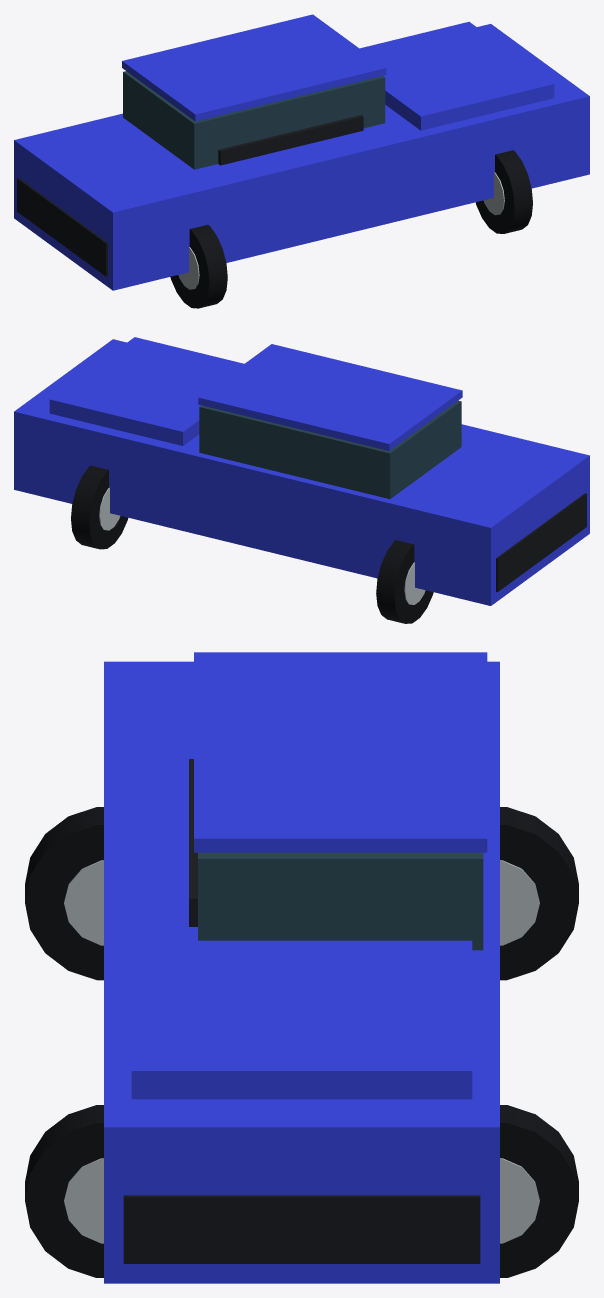
File: ford_f_150_svt_lightning.glb
The picture shows the model from 3 angles, top to bottom: view 1: azimuth 30°, elevation 25°; view 2: azimuth 150°, elevation 25°; view 3: azimuth 270°, elevation 25°; orthographic projection. The views are drawn at different scales.
Parts seen in each view (by area): view 1: body, roof, hood, cabin, rear_bumper, rear_right_wheel, front_right_wheel, interior; view 2: body, roof, cabin, hood, rear_bumper, rear_left_wheel, front_left_wheel; view 3: body, roof, hood, cabin, front_bumper, rear_left_wheel, rear_right_wheel, front_left_wheel, front_right_wheel, interior.
Boxes of the visible parts, bbox=[...] form: body: bbox=[14, 24, 589, 290]; roof: bbox=[122, 14, 386, 121]; hood: bbox=[360, 21, 554, 130]; cabin: bbox=[123, 71, 385, 169]; rear_bumper: bbox=[17, 178, 107, 276]; rear_right_wheel: bbox=[170, 224, 227, 308]; front_right_wheel: bbox=[475, 150, 532, 233]; interior: bbox=[218, 115, 363, 165]; body: bbox=[14, 339, 589, 605]; roof: bbox=[198, 344, 462, 450]; cabin: bbox=[199, 400, 461, 498]; hood: bbox=[49, 337, 244, 445]; rear_bumper: bbox=[496, 493, 586, 591]; rear_left_wheel: bbox=[376, 540, 433, 623]; front_left_wheel: bbox=[71, 465, 128, 549]; body: bbox=[104, 661, 499, 1283]; roof: bbox=[194, 652, 487, 852]; hood: bbox=[131, 940, 472, 1099]; cabin: bbox=[198, 852, 483, 950]; front_bumper: bbox=[123, 1195, 480, 1263]; rear_left_wheel: bbox=[500, 807, 578, 980]; rear_right_wheel: bbox=[25, 807, 103, 980]; front_left_wheel: bbox=[500, 1105, 578, 1277]; front_right_wheel: bbox=[25, 1105, 103, 1277]; interior: bbox=[189, 759, 197, 926].
Bounding box in the file's own units: 5.75 × 1.93 × 2.87.
